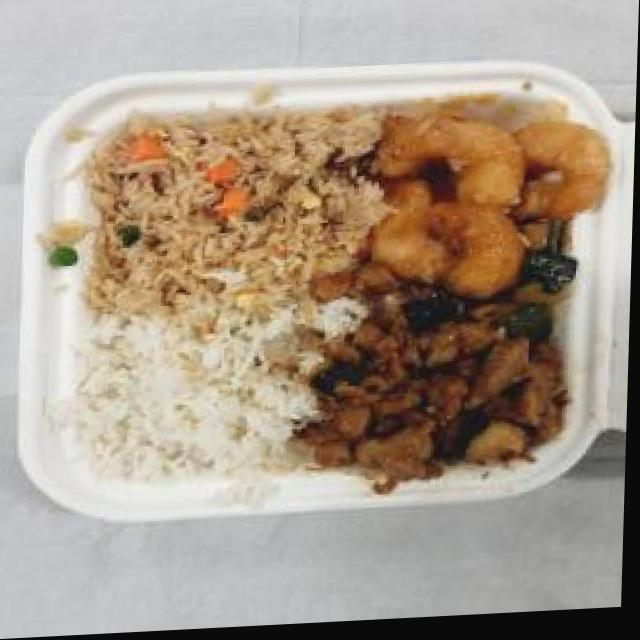Fried Rice: (92, 113, 360, 327)
Honey Walnut Shrimp: (353, 95, 620, 300)
Kung Pao Chicken: (308, 291, 578, 495)
White Steamed Rice: (77, 300, 324, 489)
